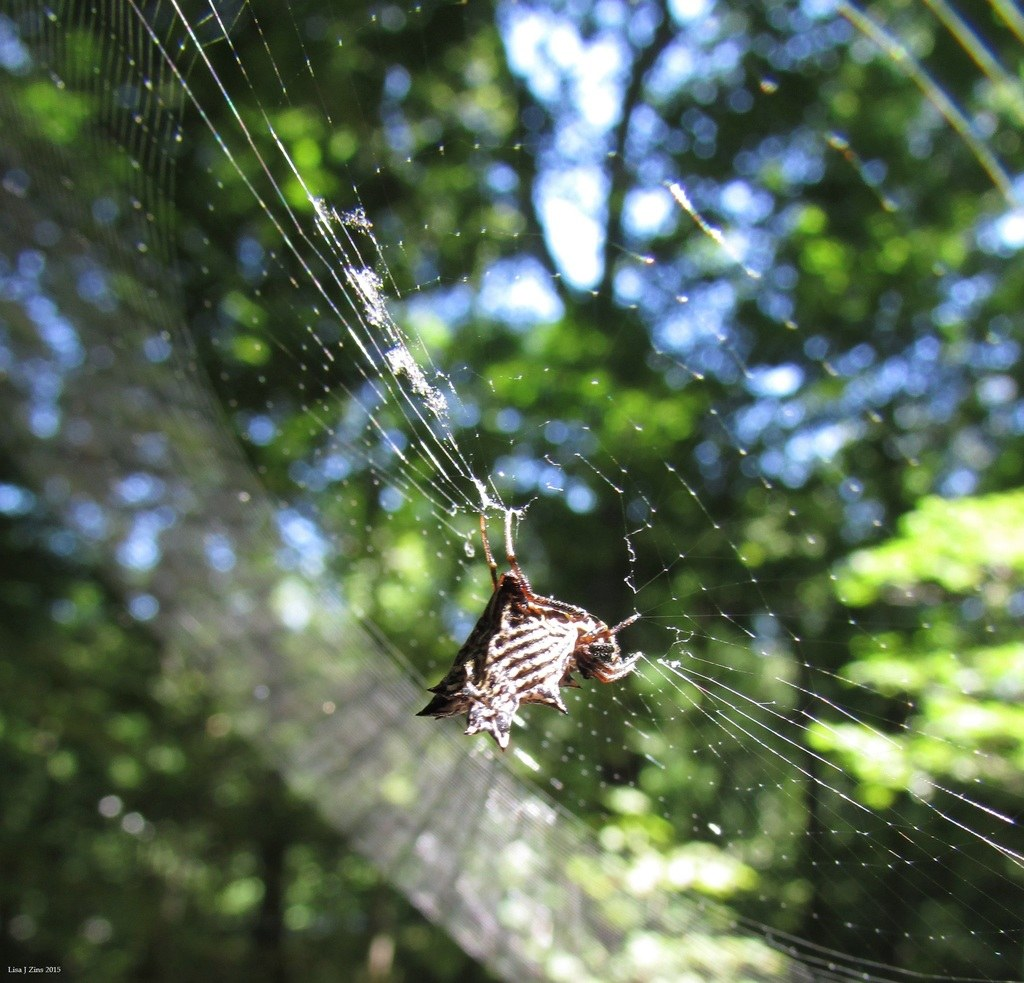insect: (412, 505, 644, 752)
